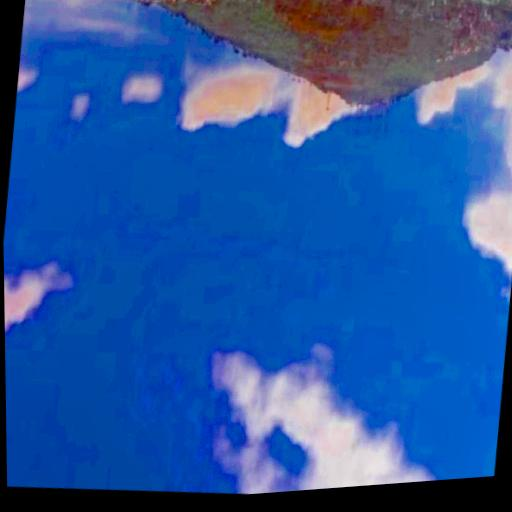drones: (111, 184, 123, 199)
